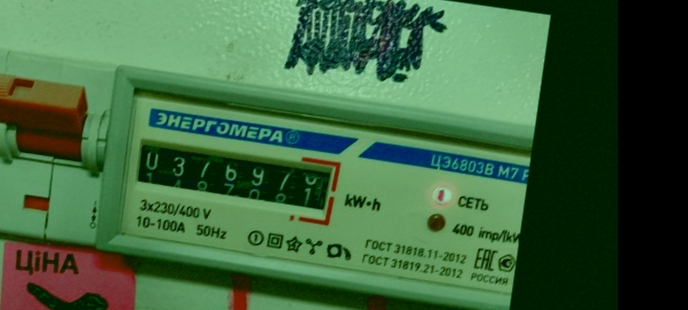0: (144, 148, 162, 172)
1: (301, 185, 313, 208)
3: (171, 155, 187, 177)
6: (223, 158, 241, 183)
7: (197, 155, 214, 180), (277, 166, 294, 191)
9: (250, 164, 267, 187)
screen: (124, 129, 346, 230)
